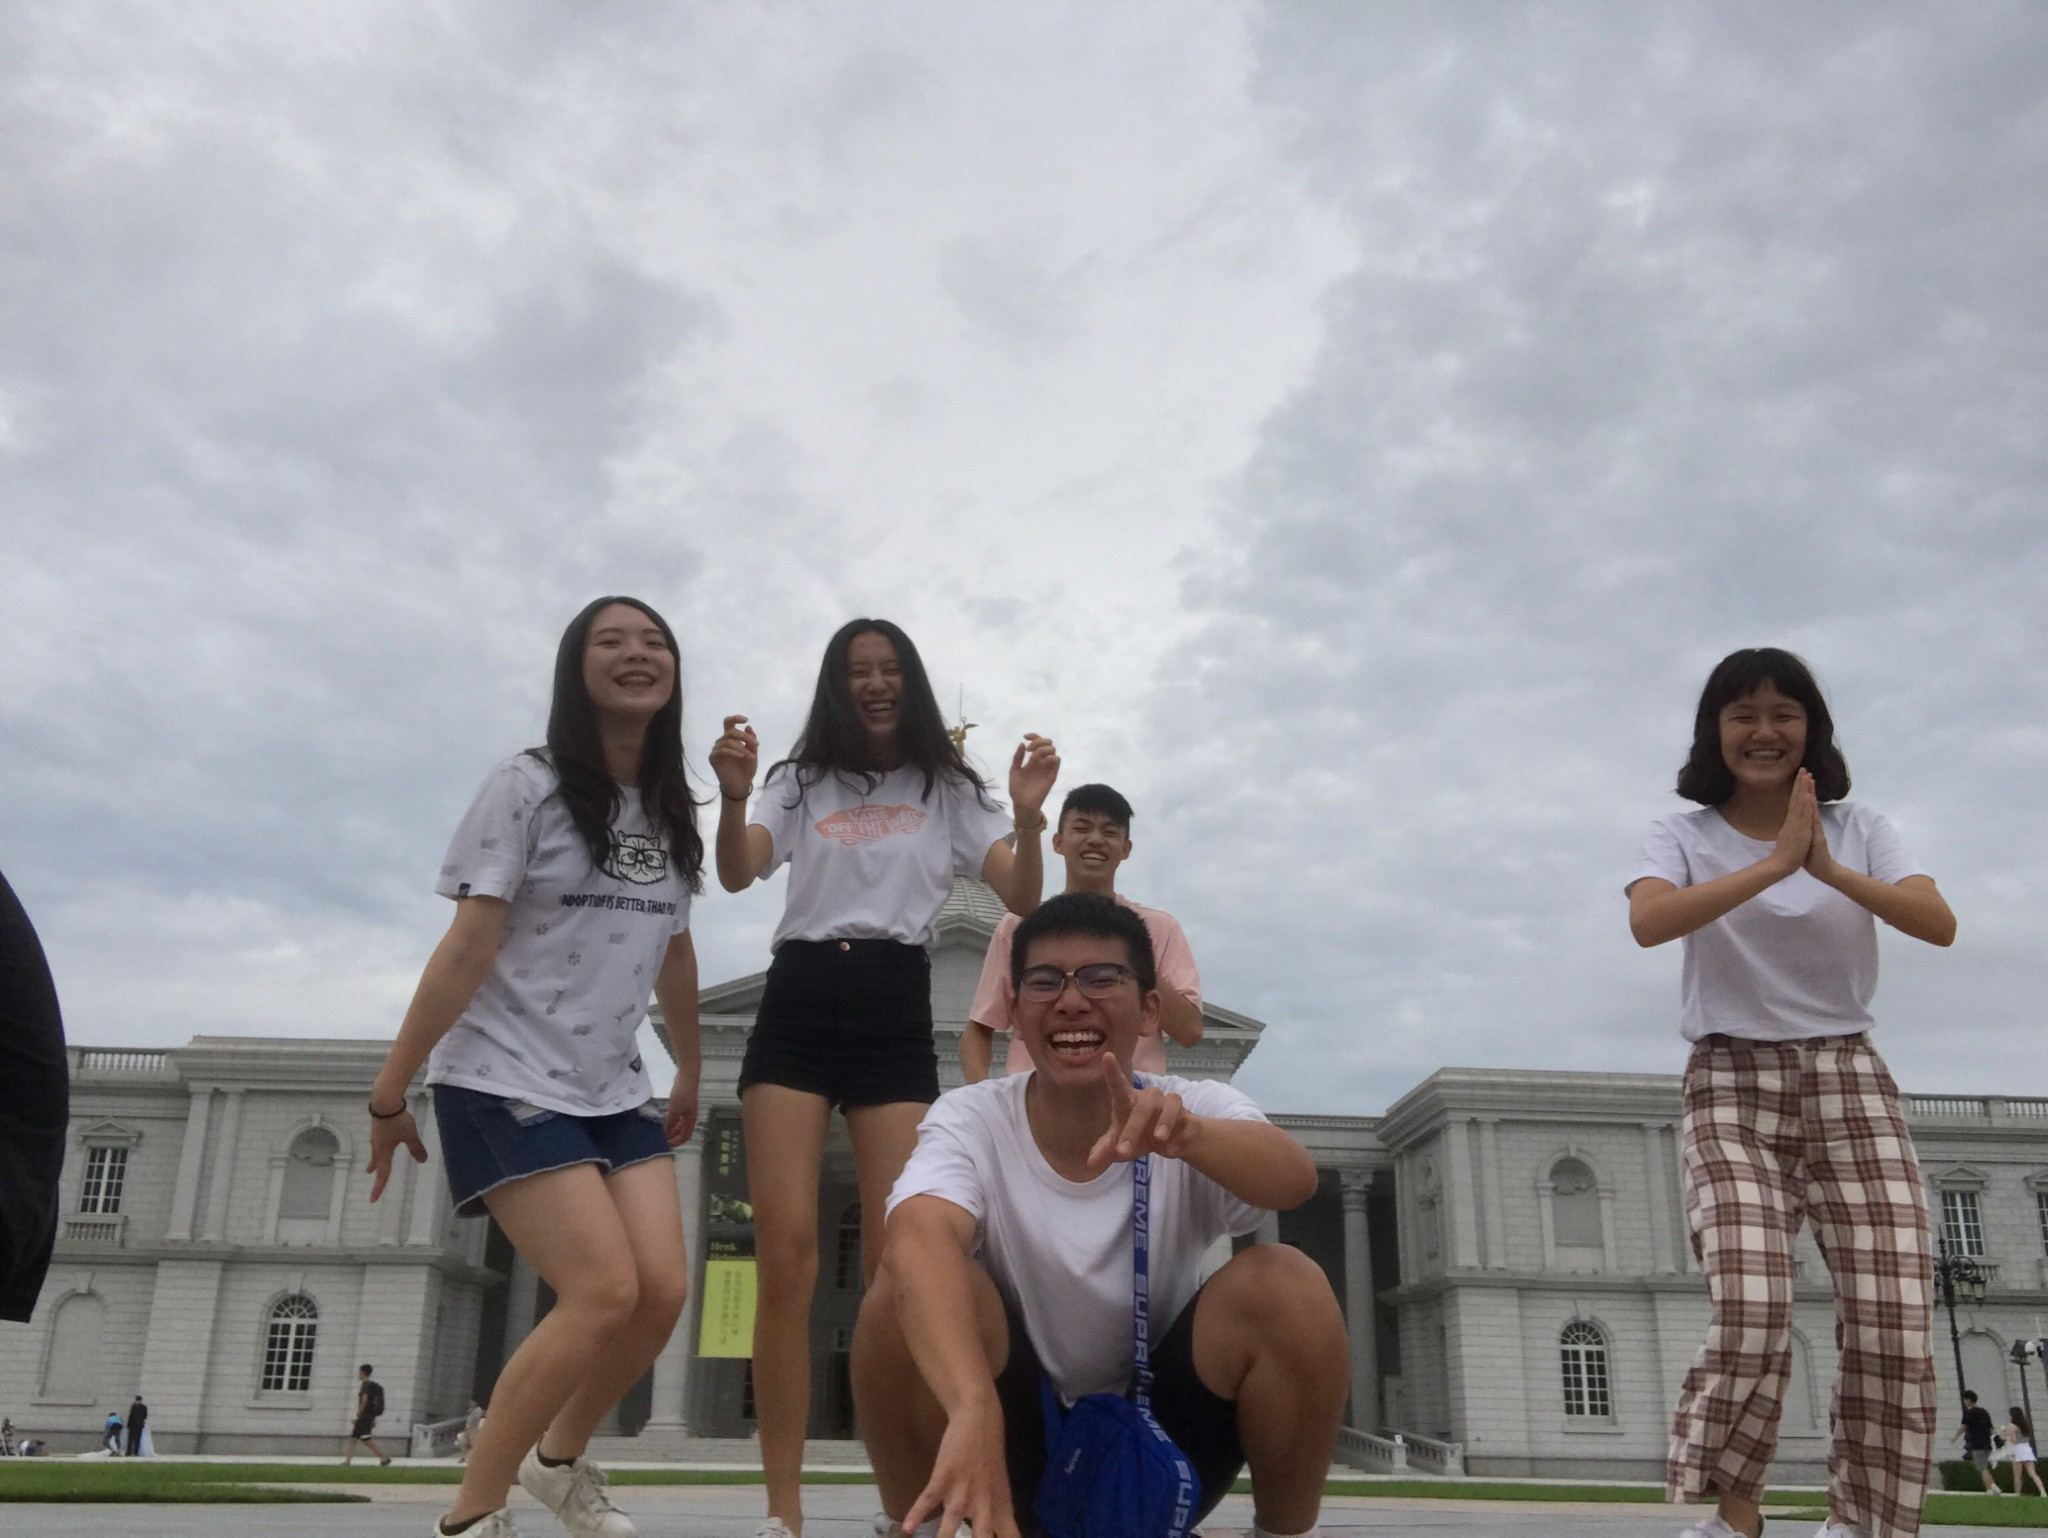people: (1652, 650, 1954, 1538), (460, 597, 702, 1538), (946, 897, 1266, 1538), (737, 617, 954, 1538), (1013, 791, 1202, 1064)
